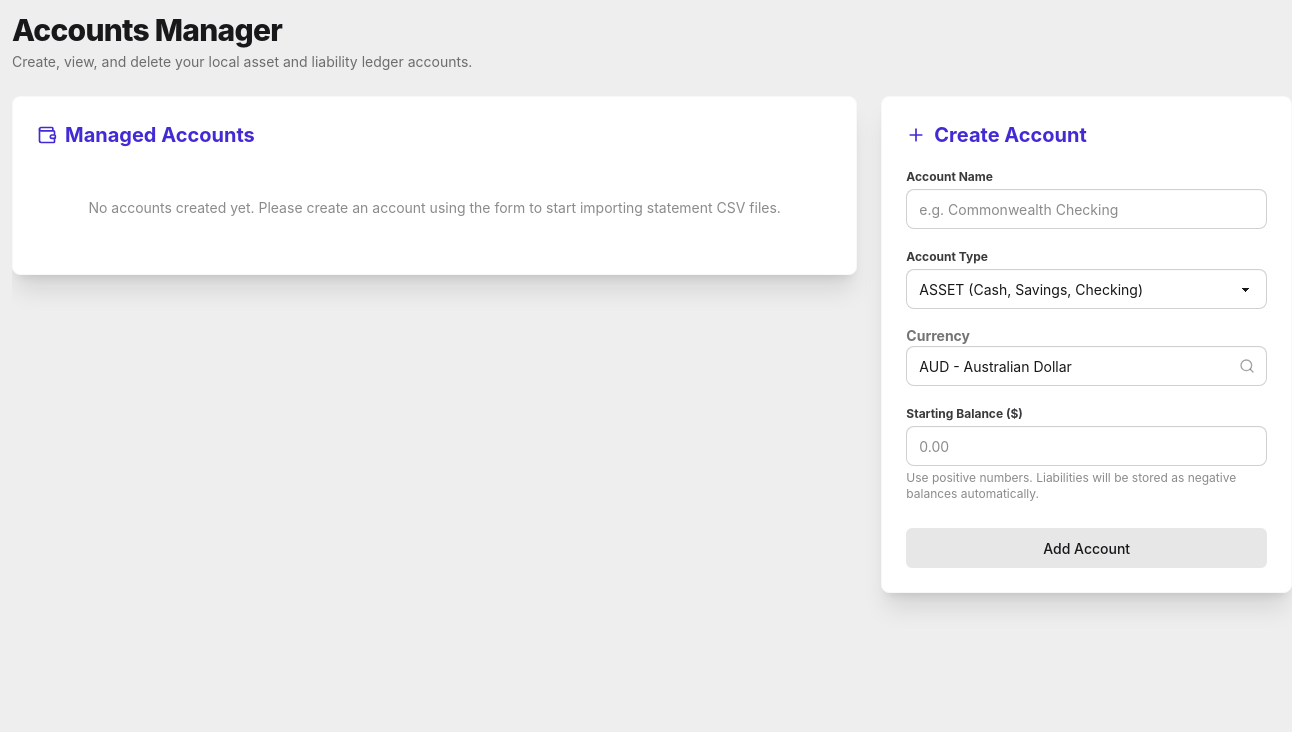
Test: AccountsClient — creating an account › shows success toast after creating an account
Type "New Account" into the field with placeholder "e.g. Commonwealth Checking". click: (1087, 209)
box: [906, 189, 1267, 229]
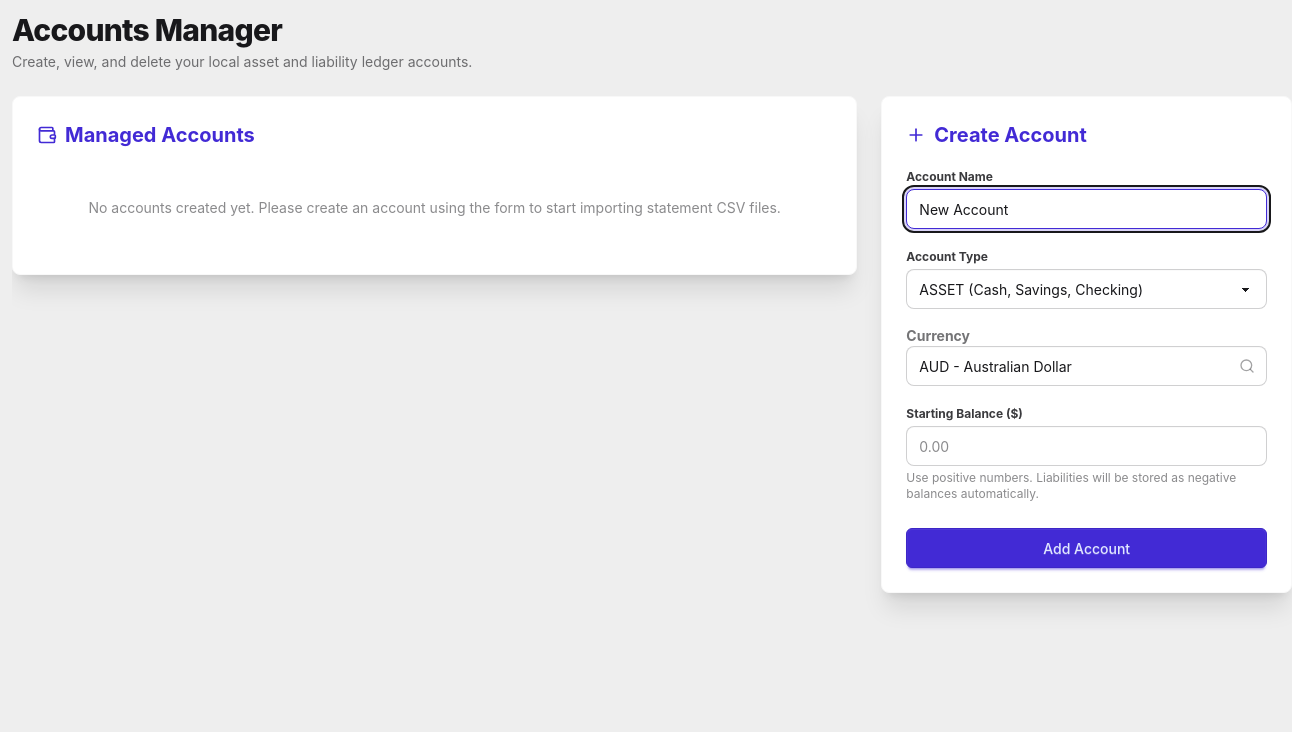
Click the button "Add Account". click: (1087, 548)
box: [906, 528, 1267, 568]
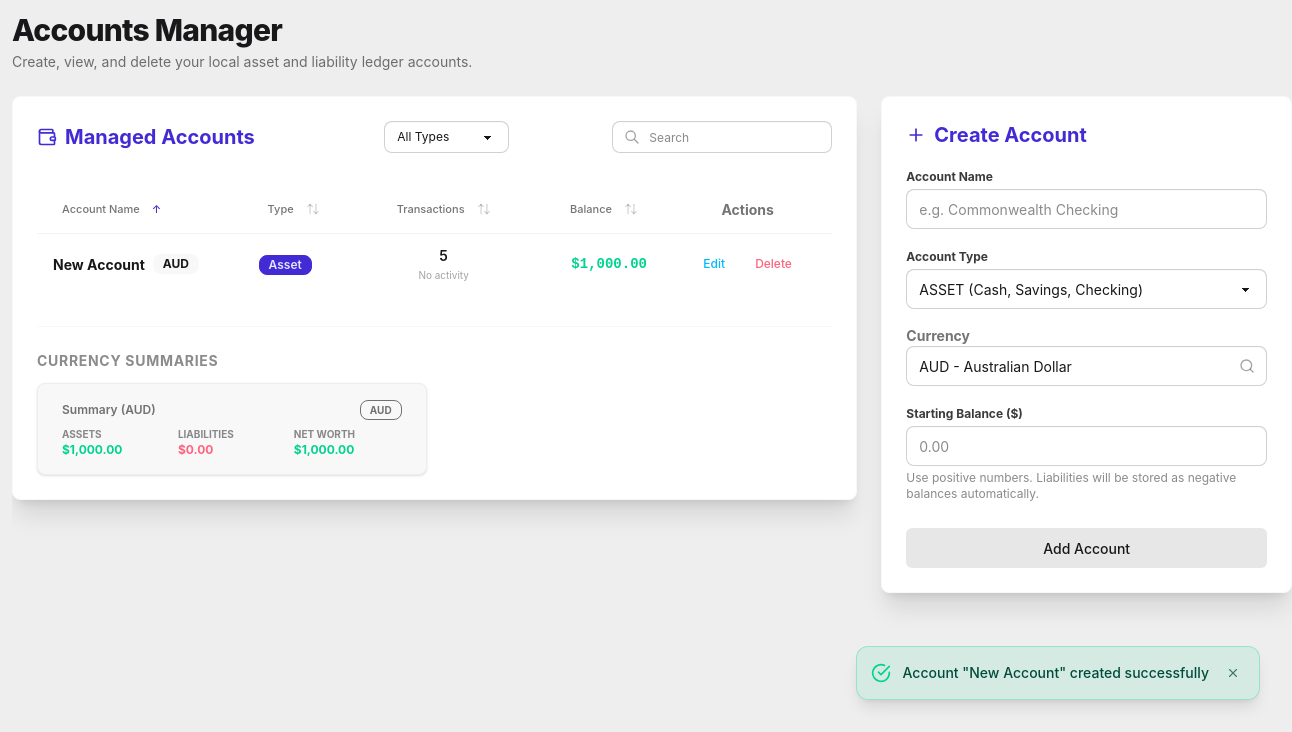
Check: the text "Account \"New Account\" created successfully" is shown, box [902, 663, 1209, 683]
